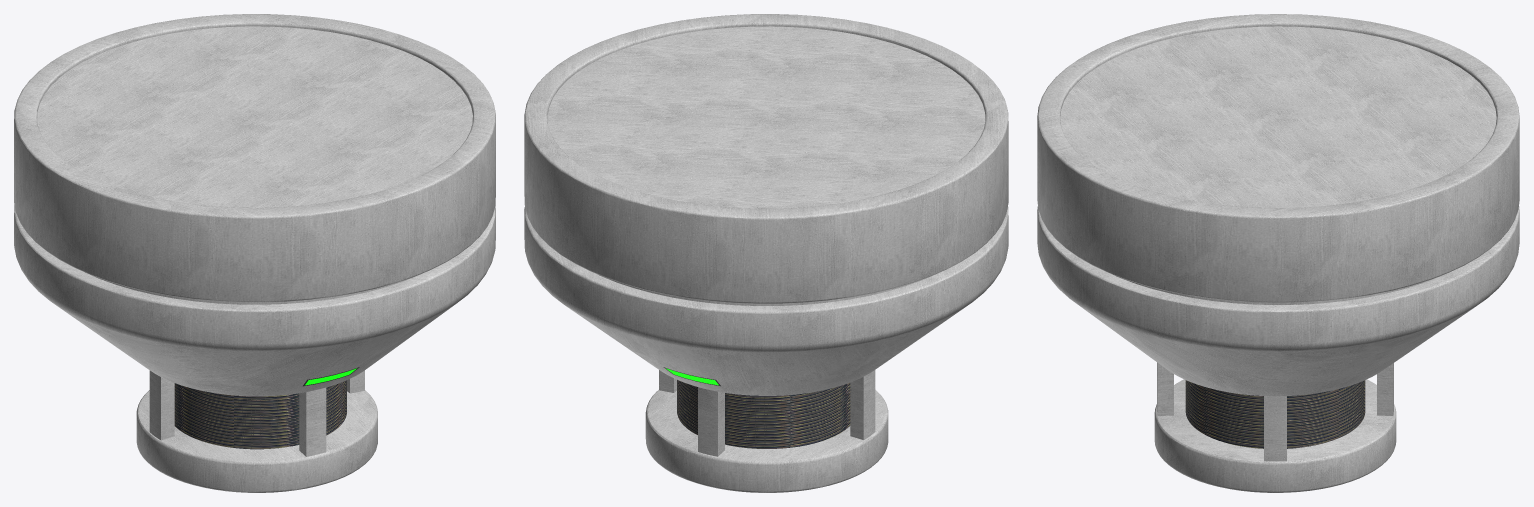
The model's file is smoke_detector_a5.glb.
3 views of the same model, side by side, from view 1: azimuth 30°, elevation 25°; view 2: azimuth 150°, elevation 25°; view 3: azimuth 270°, elevation 25° (orthographic).
Visible parts, largest first — view 1: detector; view 2: detector; view 3: detector.
Part boxes in pixels (bbox=[...]): detector: bbox=[14, 14, 495, 492]; detector: bbox=[524, 14, 1008, 492]; detector: bbox=[1037, 14, 1519, 492].
Bounding box in the file's own units: 200 × 150 × 200.
Materials: 4 (2 with a texture image).
